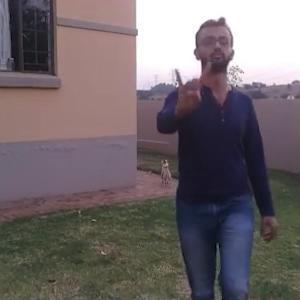takeoff-hand: (171, 56, 211, 115)
